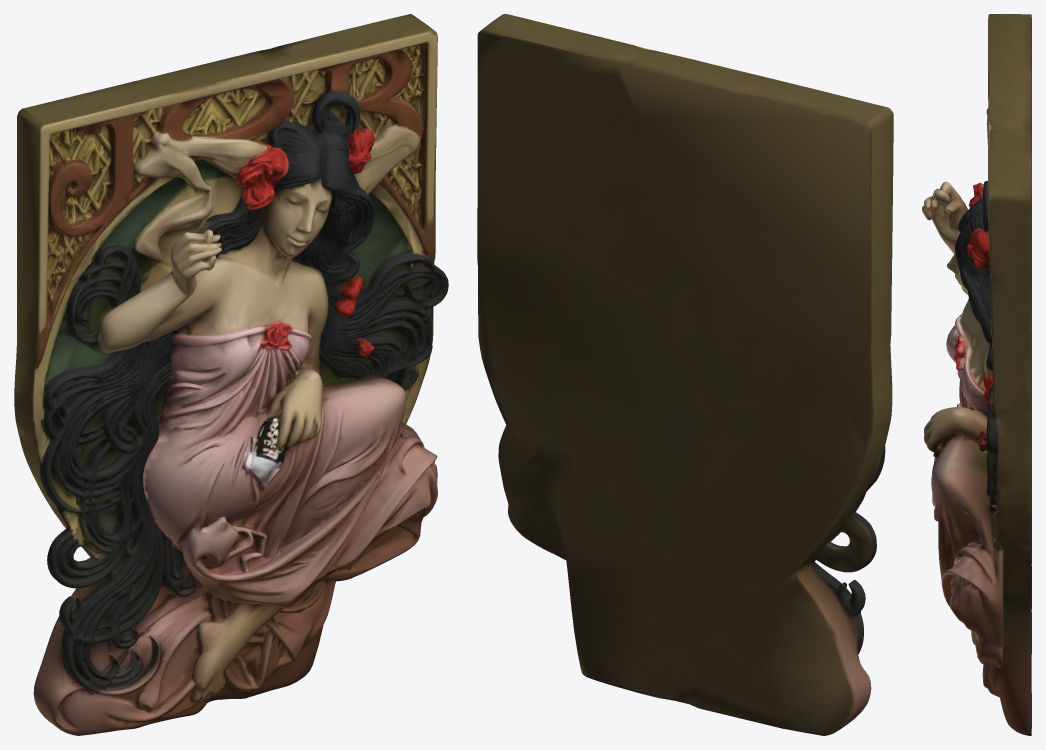
The model's file is mucha-godot-safe.glb.
The picture shows the model from 3 angles, left to right: view 1: azimuth 30°, elevation 25°; view 2: azimuth 150°, elevation 25°; view 3: azimuth 270°, elevation 25°; orthographic projection. The views are drawn at different scales.
Visible parts, largest first — view 1: material; view 2: material; view 3: material.
Boxes of the visible parts, bbox=[...] form: material: bbox=[14, 14, 448, 735]; material: bbox=[477, 14, 893, 735]; material: bbox=[922, 14, 1031, 735].
Size of the model in its own units: 0.6769 by 0.9933 by 0.1661.
1 material, 1 textured.
